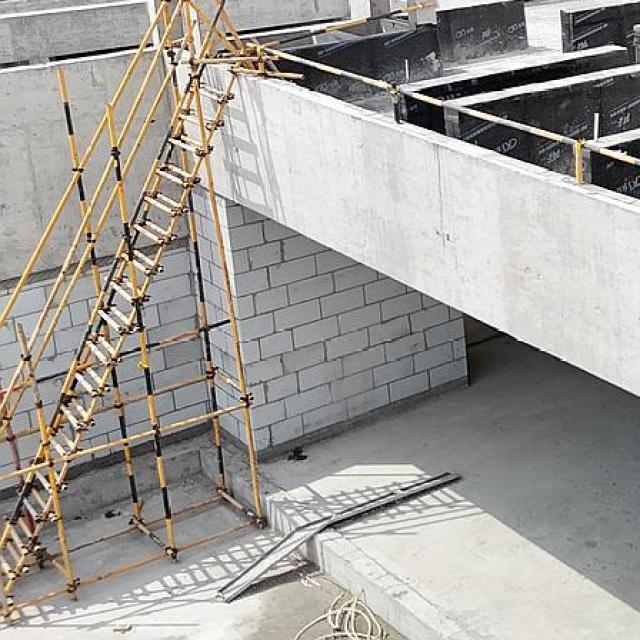edge_guardrail: (244, 41, 640, 186), (260, 1, 436, 48)
